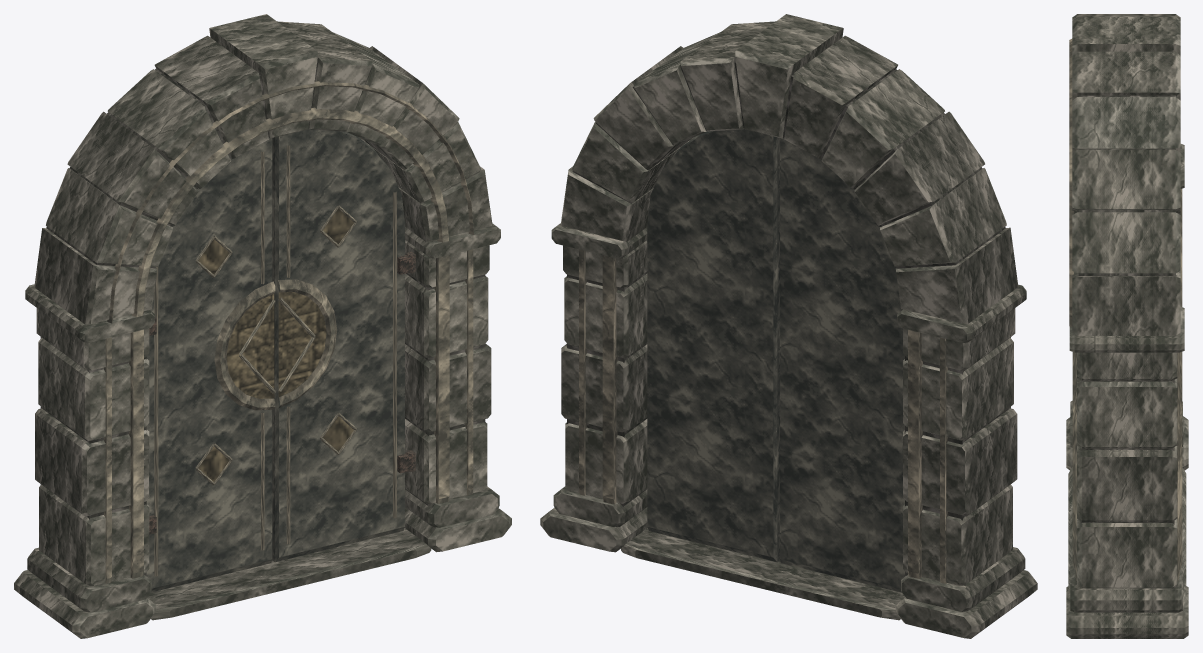
The model's file is Porta-de-Pedra.glb.
3 renders of one model, left to right at view 1: azimuth 30°, elevation 25°; view 2: azimuth 150°, elevation 25°; view 3: azimuth 270°, elevation 25°, orthographic. The views are drawn at different scales.
Visible parts, largest first — view 1: Blocos do arco, Folha direita, Folha esquerda, Pilares do portal, Molduras do portal, Sapatas, Relevo direito, Relevo esquerdo, Soleira, Impostas, Juntas; view 2: Blocos do arco, Folha direita, Folha esquerda, Pilares do portal, Sapatas, Molduras do portal, Soleira, Impostas, Juntas; view 3: Blocos do arco, Pilares do portal, Sapatas, Molduras do portal, Impostas, Juntas, Soleira.
Boxes of the visible parts, <box> form: Blocos do arco: <box>34,14,492,324</box>; Folha direita: <box>272,129,404,562</box>; Folha esquerda: <box>146,138,272,592</box>; Pilares do portal: <box>35,240,491,585</box>; Molduras do portal: <box>104,81,474,583</box>; Sapatas: <box>14,486,511,638</box>; Relevo direito: <box>278,145,411,544</box>; Relevo esquerdo: <box>149,151,275,576</box>; Soleira: <box>147,528,431,620</box>; Impostas: <box>25,223,500,342</box>; Juntas: <box>40,62,485,575</box>; Blocos do arco: <box>560,14,1018,324</box>; Folha direita: <box>647,129,779,562</box>; Folha esquerda: <box>780,138,905,592</box>; Pilares do portal: <box>561,240,1017,585</box>; Sapatas: <box>540,486,1037,638</box>; Molduras do portal: <box>579,249,947,583</box>; Soleira: <box>621,528,905,620</box>; Impostas: <box>551,223,1026,342</box>; Juntas: <box>567,62,1010,585</box>; Blocos do arco: <box>1072,14,1180,335</box>; Pilares do portal: <box>1077,352,1177,588</box>; Sapatas: <box>1066,400,1188,638</box>; Molduras do portal: <box>1069,38,1182,580</box>; Impostas: <box>1069,144,1184,352</box>; Juntas: <box>1078,95,1175,587</box>; Soleira: <box>1068,467,1186,585</box>.
Size of the model in its own units: 2.71 by 3.11 by 0.677.
5 materials, 5 textured.
